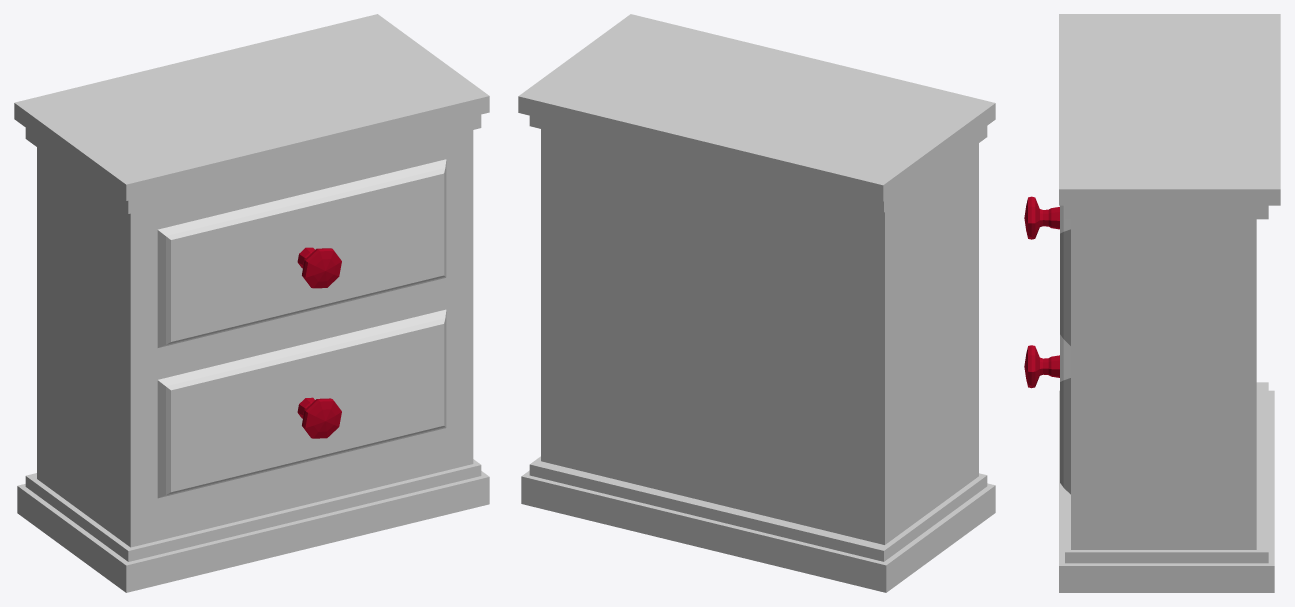
The model's file is Drawer3.fbx.
The picture shows the model from 3 angles, left to right: view 1: azimuth 30°, elevation 25°; view 2: azimuth 150°, elevation 25°; view 3: azimuth 270°, elevation 25°; orthographic projection.
Visible parts, largest first — view 1: Drawer; view 2: Drawer; view 3: Drawer.
Boxes of the visible parts, box(x1,y1,x2,y2) form: Drawer: box(14, 14, 489, 592); Drawer: box(518, 14, 995, 592); Drawer: box(1024, 14, 1280, 592).
Size of the model in its own units: 0.6931 by 0.4281 by 0.744.
